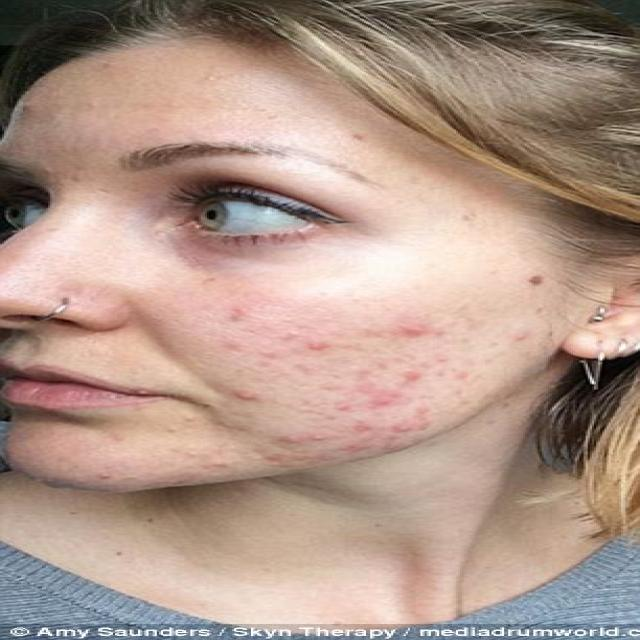Acne: (131, 258, 496, 481)
